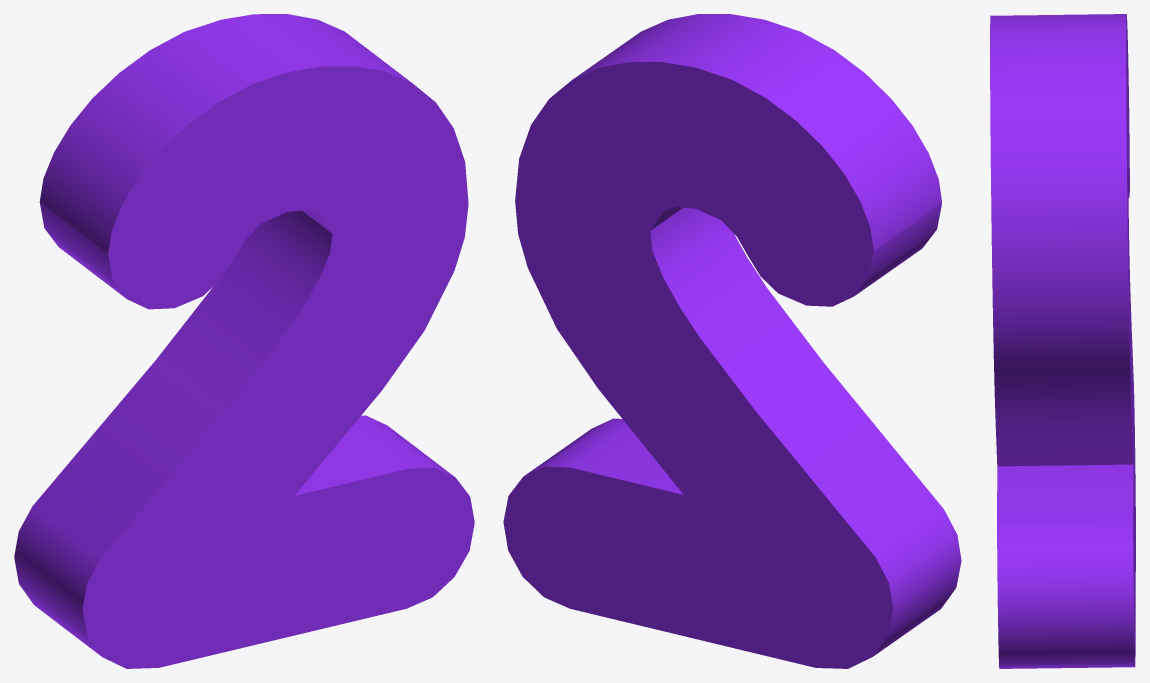
File: choice4.fbx
The picture shows the model from 3 angles, left to right: view 1: azimuth 30°, elevation 25°; view 2: azimuth 150°, elevation 25°; view 3: azimuth 270°, elevation 25°; orthographic projection.
Parts seen in each view (by area): view 1: Model; view 2: Model; view 3: Model.
Part boxes in pixels (left/top/right/bottom): Model: left=14, top=14, right=474, bottom=668; Model: left=503, top=14, right=961, bottom=668; Model: left=990, top=14, right=1135, bottom=668.
Bounding box in the file's own units: 36.22 × 50.49 × 11.77.
